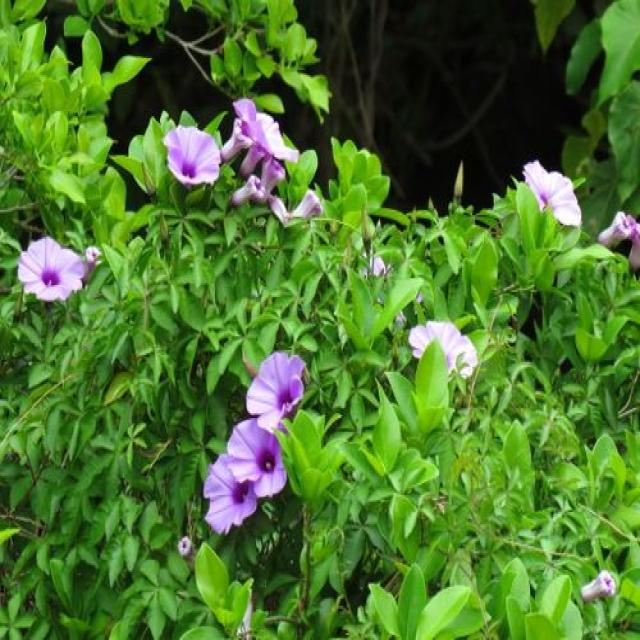ipomoea: (220, 94, 301, 189), (242, 346, 308, 438), (223, 415, 289, 503), (13, 232, 88, 309), (199, 449, 261, 539), (516, 155, 585, 234), (403, 316, 480, 386), (159, 120, 224, 194), (595, 206, 639, 276)
